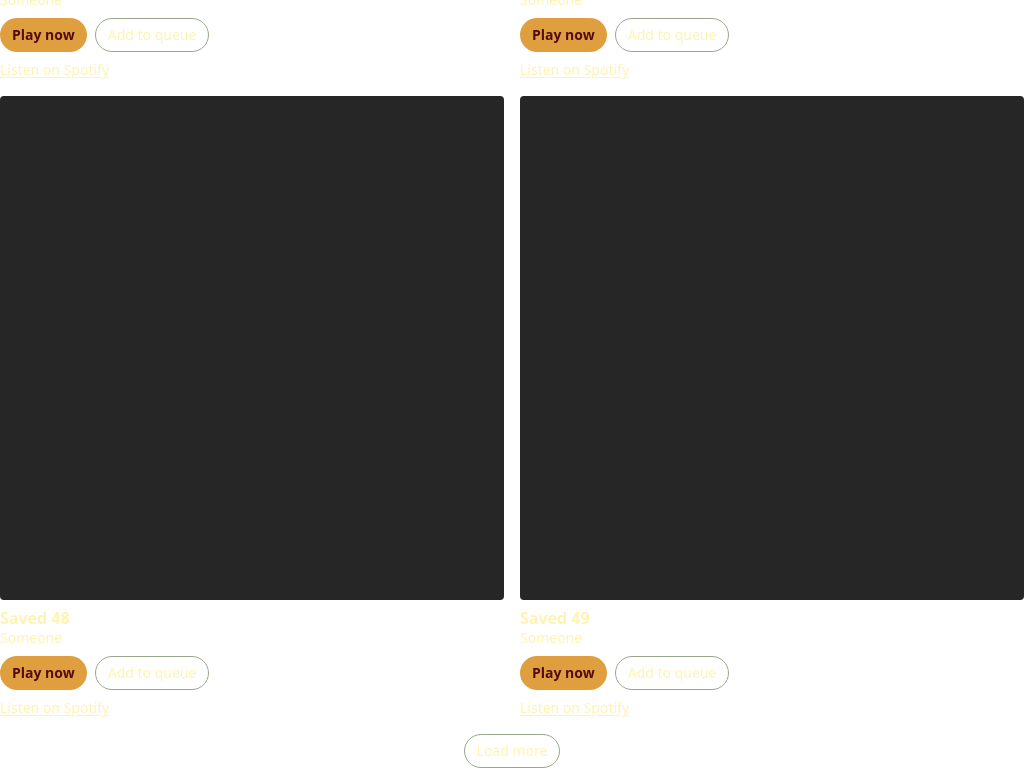
Scenario: SavedAlbums › shows the first 50 albums, and Load more requests offset 50 and appends
The image size is (1024, 768).
(page scrolled)
Step 1. Click the button "Load more" → (512, 751), box [464, 734, 560, 767]
(page scrolled)
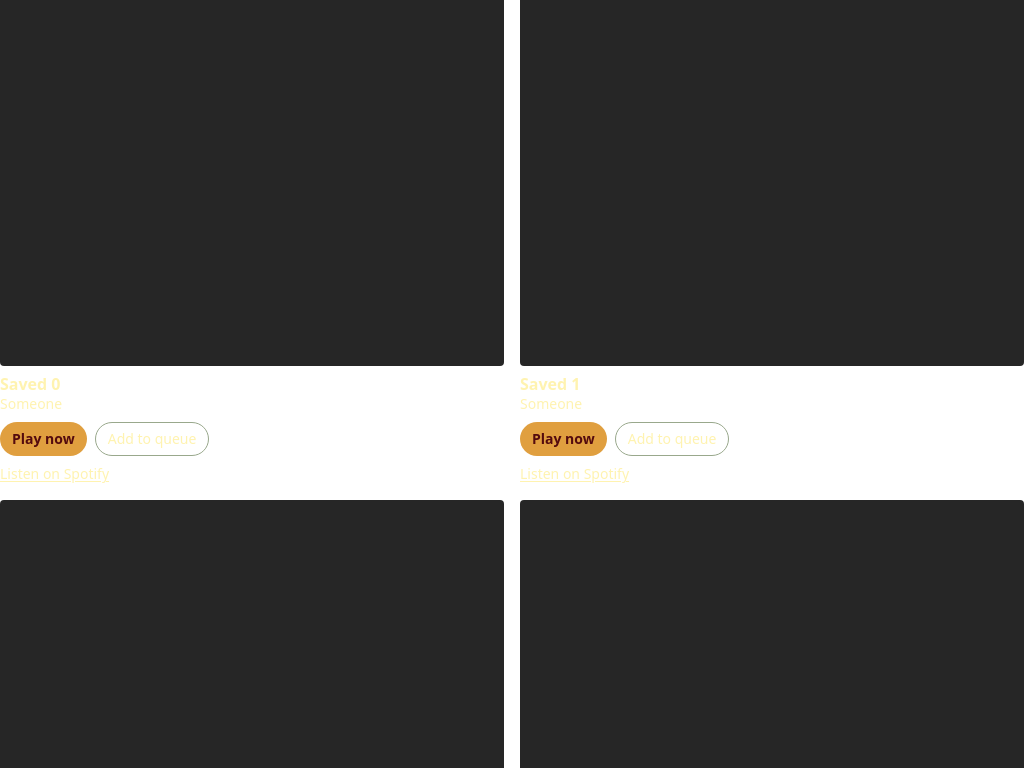
Check: the heading "Saved 0" is shown, box [0, 373, 60, 395]
Check: the number of list items is 60
Check: the button "Load more" is gone
